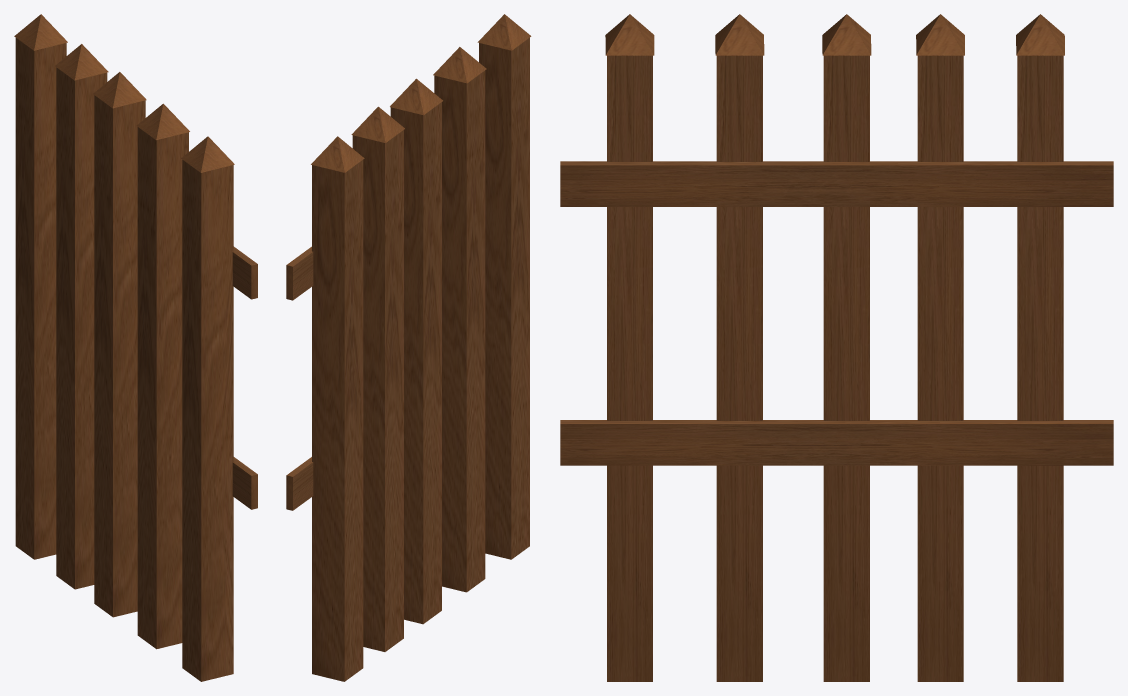
File: fencepost.fbx
3 renders of one model, left to right at view 1: azimuth 30°, elevation 25°; view 2: azimuth 150°, elevation 25°; view 3: azimuth 270°, elevation 25°, orthographic. The views are drawn at different scales.
Visible parts, largest first — view 1: pCube1, pCube3, pCube4, pCube6, pCube5, pPyramid4, pPyramid5, pPyramid1, pPyramid2, pPyramid3, pCube2, pCube7; view 2: pCube6, pCube1, pCube3, pCube5, pCube4, pCube2, pCube7, pPyramid5, pPyramid3, pPyramid1, pPyramid4, pPyramid2; view 3: pCube6, pCube3, pCube4, pCube5, pCube2, pCube7, pCube1, pPyramid1, pPyramid2, pPyramid3, pPyramid4, pPyramid5.
Part boxes in pixels (x1,y1,x2,y2): pCube1: [182, 160, 233, 681]; pCube3: [137, 127, 188, 649]; pCube4: [94, 95, 145, 617]; pCube6: [15, 38, 66, 559]; pCube5: [56, 67, 107, 589]; pPyramid4: [55, 44, 108, 80]; pPyramid5: [14, 14, 67, 50]; pPyramid1: [181, 136, 234, 172]; pPyramid2: [136, 103, 189, 140]; pPyramid3: [93, 72, 146, 108]; pCube2: [232, 246, 257, 299]; pCube7: [232, 457, 257, 509]; pCube6: [312, 160, 363, 681]; pCube1: [479, 37, 529, 559]; pCube3: [434, 70, 485, 592]; pCube5: [352, 130, 403, 651]; pCube4: [390, 102, 441, 624]; pCube2: [286, 246, 313, 300]; pCube7: [286, 457, 313, 510]; pPyramid5: [311, 136, 364, 172]; pPyramid3: [390, 78, 442, 115]; pPyramid1: [477, 14, 531, 50]; pPyramid4: [351, 106, 404, 142]; pPyramid2: [433, 47, 486, 83]; pCube6: [1017, 55, 1063, 681]; pCube3: [716, 55, 762, 681]; pCube4: [823, 55, 869, 681]; pCube5: [917, 55, 963, 681]; pCube2: [560, 161, 1113, 206]; pCube7: [560, 420, 1113, 465]; pCube1: [607, 55, 652, 681]; pPyramid1: [605, 14, 654, 55]; pPyramid2: [715, 14, 764, 55]; pPyramid3: [822, 14, 871, 55]; pPyramid4: [916, 14, 964, 55]; pPyramid5: [1016, 14, 1064, 55].
Size of the model in its own units: 1.2 by 15.76 by 12.
Materials: 1 (1 with a texture image).
